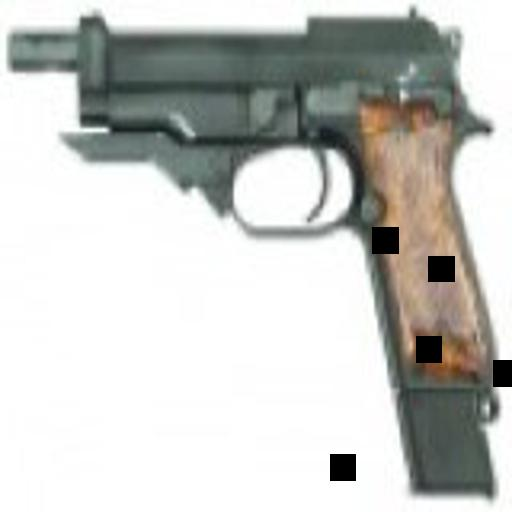Handgun: (5, 7, 498, 506)
